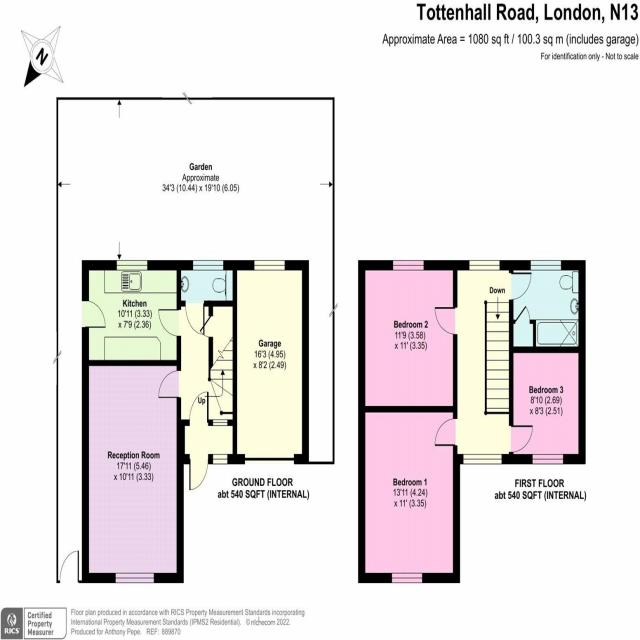DOOR: (81, 297, 108, 332), (188, 453, 211, 492), (156, 368, 182, 402), (156, 305, 181, 340), (433, 414, 458, 449), (433, 304, 458, 339), (184, 300, 207, 337), (188, 388, 210, 426), (509, 271, 533, 304), (58, 549, 81, 583), (509, 423, 534, 454)
ROOM: (81, 359, 183, 584), (358, 405, 460, 583), (358, 260, 458, 413), (81, 260, 181, 366), (509, 346, 586, 464)
WINDOW: (462, 450, 503, 466), (113, 570, 155, 585), (392, 256, 425, 273), (467, 257, 502, 273), (116, 257, 149, 273), (390, 569, 423, 585), (531, 451, 564, 467), (529, 257, 563, 272), (192, 258, 225, 272), (253, 258, 286, 272), (211, 451, 229, 466), (212, 418, 228, 427)
